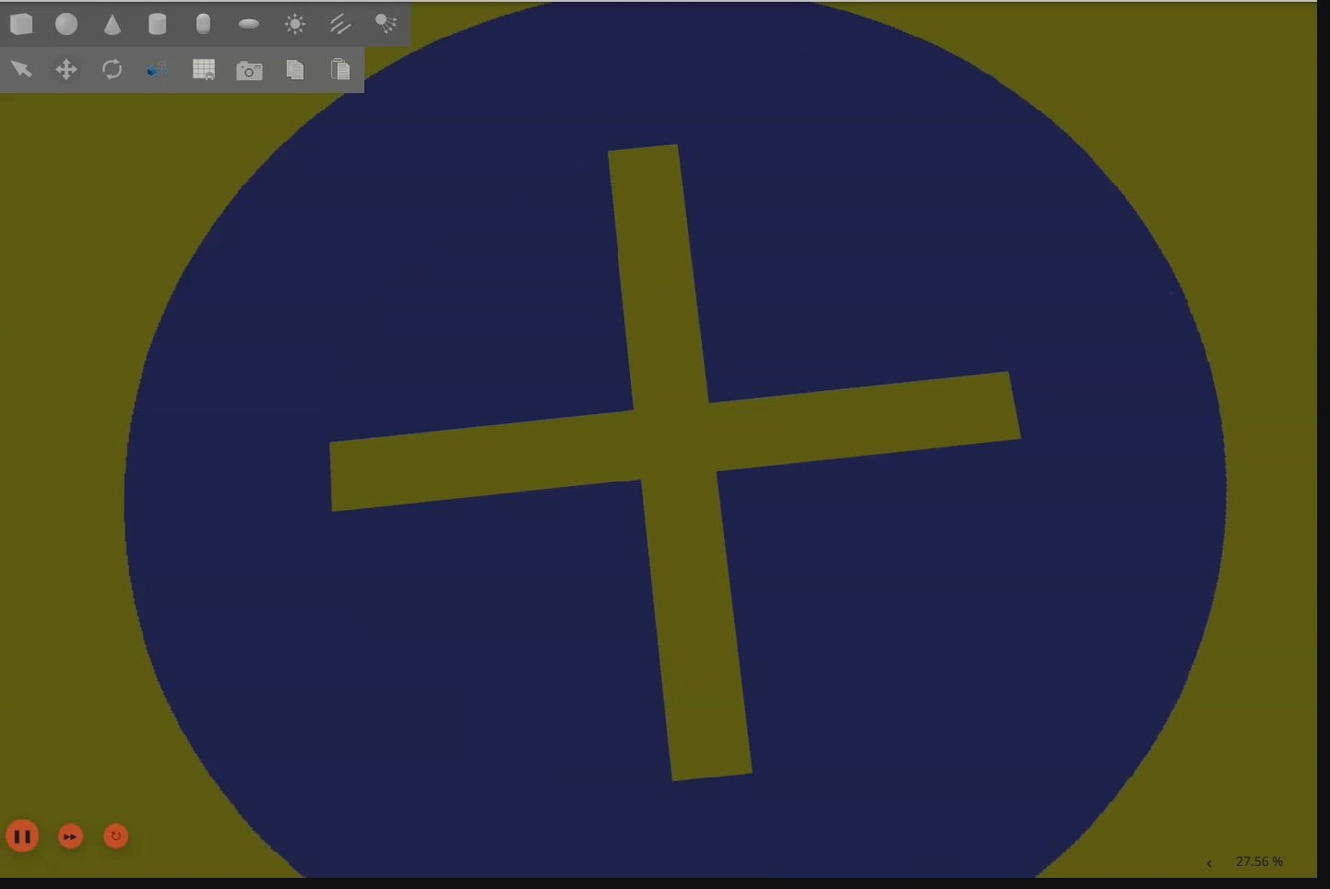large_base: (1, 1, 1313, 883)
